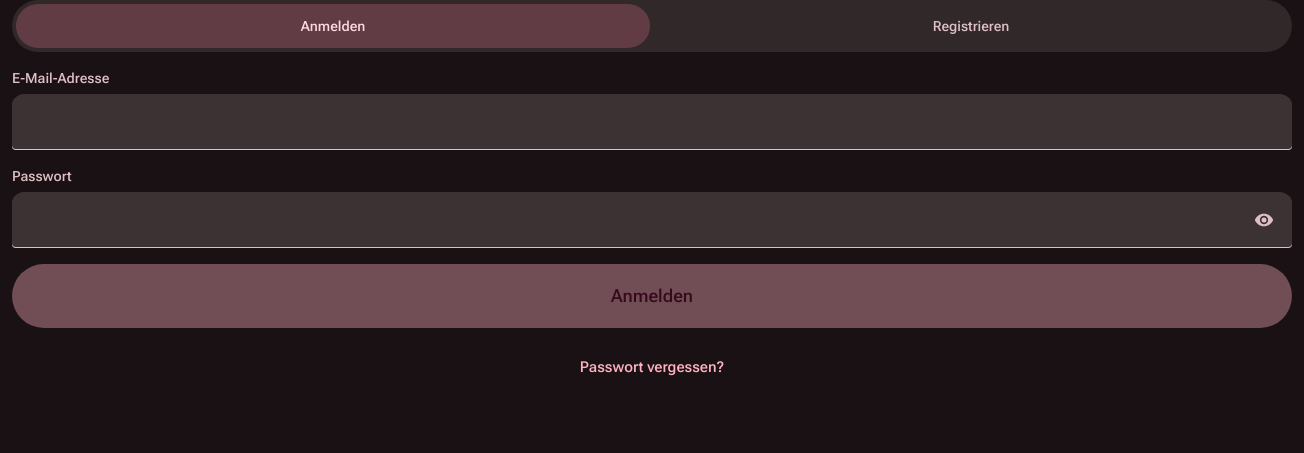
Test case: EmailAuth › shows the server message on wrong credentials
Type "lisa@example.com" into the field labelled "E-Mail-Adresse" at x=652, y=122, box left=12, top=94, right=1292, bottom=150
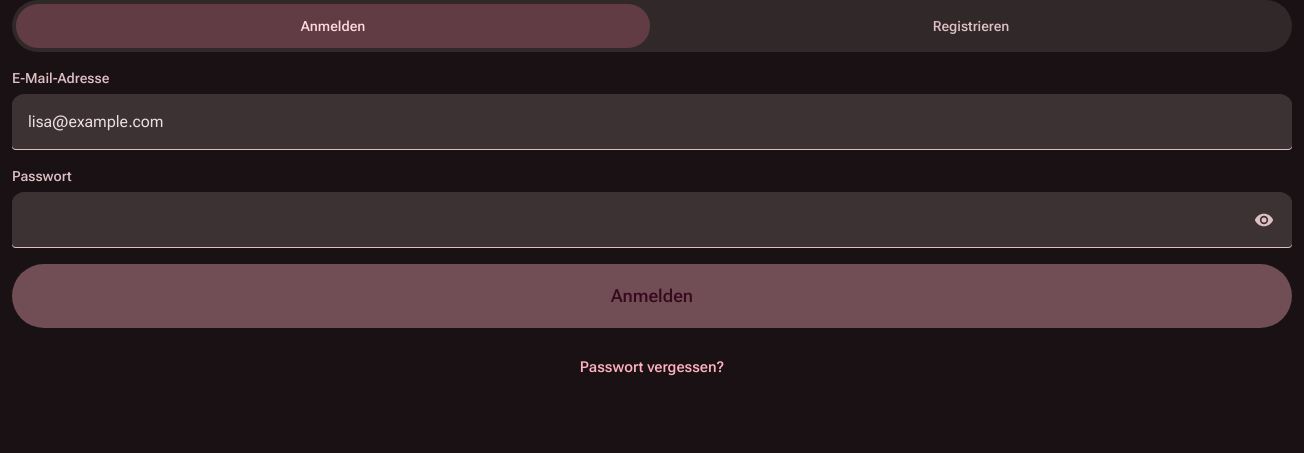
Type "falsch" into the password field labelled "Passwort" at x=652, y=220, box left=12, top=192, right=1292, bottom=248
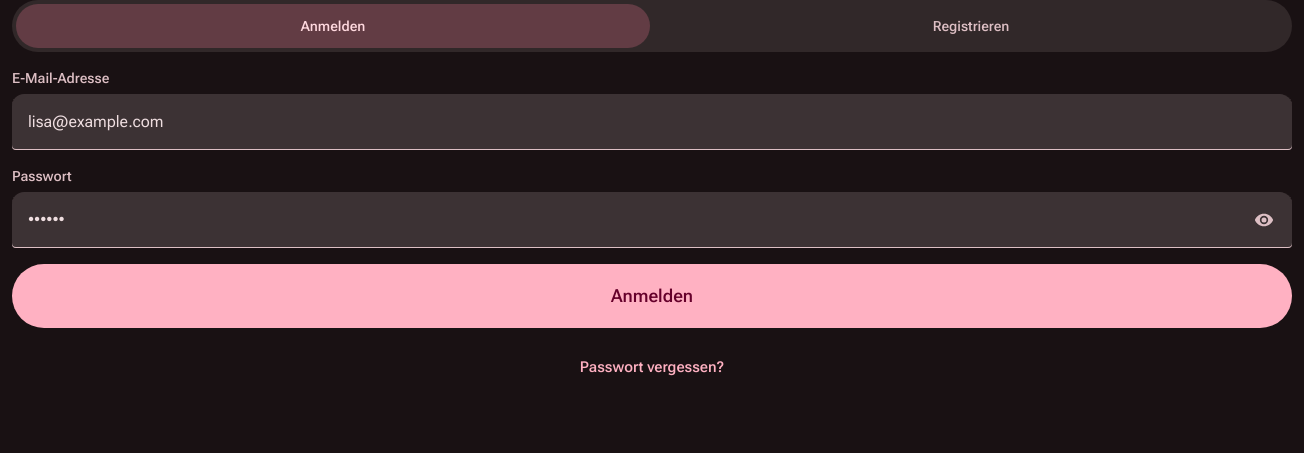
Click the button "Anmelden" at x=652, y=296, box left=12, top=264, right=1292, bottom=328
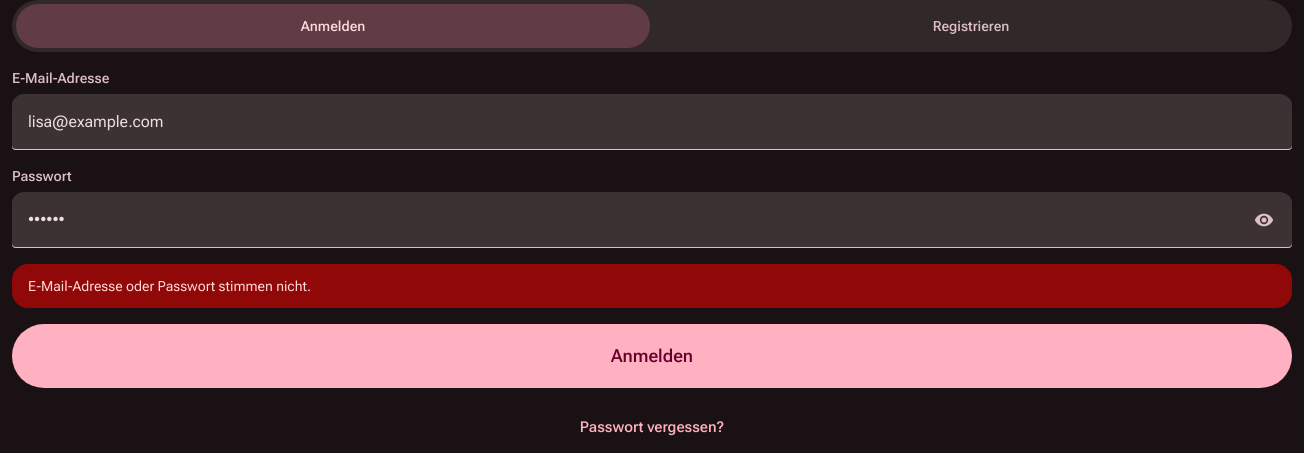
Result: the message shows "stimmen nicht" at left=28, top=278, right=311, bottom=294
